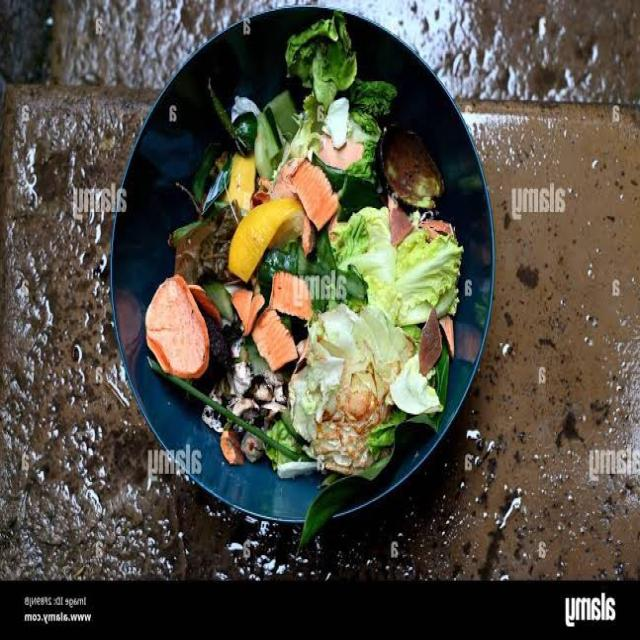organic: (288, 302, 408, 478), (330, 206, 464, 326), (144, 274, 222, 380), (285, 9, 357, 114), (228, 199, 305, 282), (380, 124, 443, 210)
